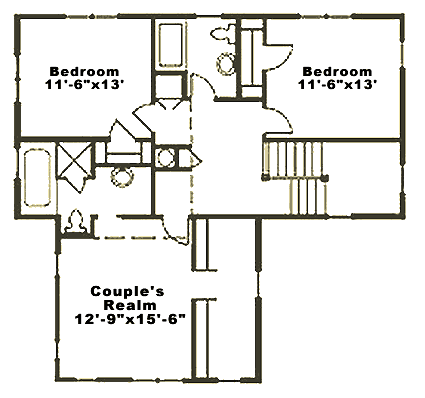door: (157, 215, 190, 249), (263, 43, 295, 73), (261, 105, 294, 134), (106, 116, 137, 143), (187, 72, 219, 98), (131, 100, 156, 133)
large_sink: (62, 206, 93, 233), (211, 24, 235, 45)
stairs: (261, 137, 333, 214)
tub: (17, 143, 59, 215), (154, 17, 189, 74)
